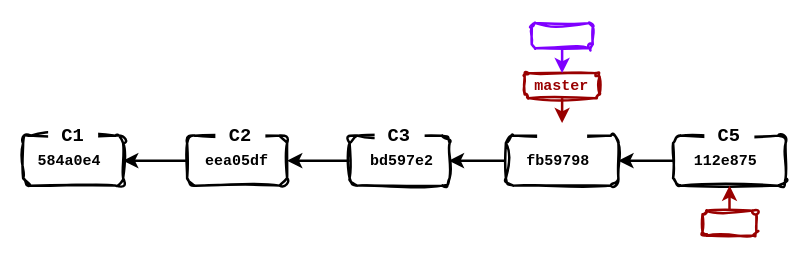
This 808x258 diagram has some shape labels left out. The centre of each missing label's shape, as x and y in pixels:
C4: (561,135)
HEAD: (561,35)
sol: (729,222)
